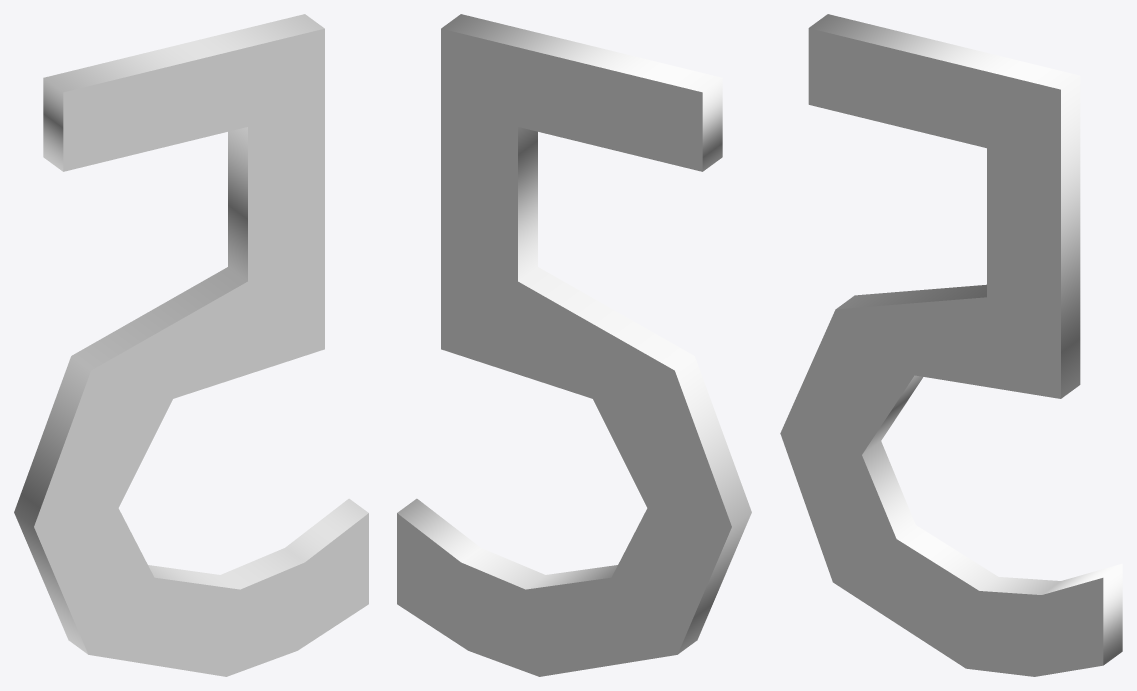
Rendered from Five.obj.
3 views of the same model, side by side, from view 1: azimuth 30°, elevation 25°; view 2: azimuth 150°, elevation 25°; view 3: azimuth 330°, elevation 25° (orthographic). The views are drawn at different scales.
Visible parts, largest first — view 1: テキスト; view 2: テキスト; view 3: テキスト.
Part boxes in pixels (x1,y1,x2,y2): テキスト: (14,14,368,676); テキスト: (397,14,751,676); テキスト: (780,14,1122,676).
Size of the model in its own units: 0.388 by 0.691 by 0.04.
Materials: 1 (1 with a texture image).
